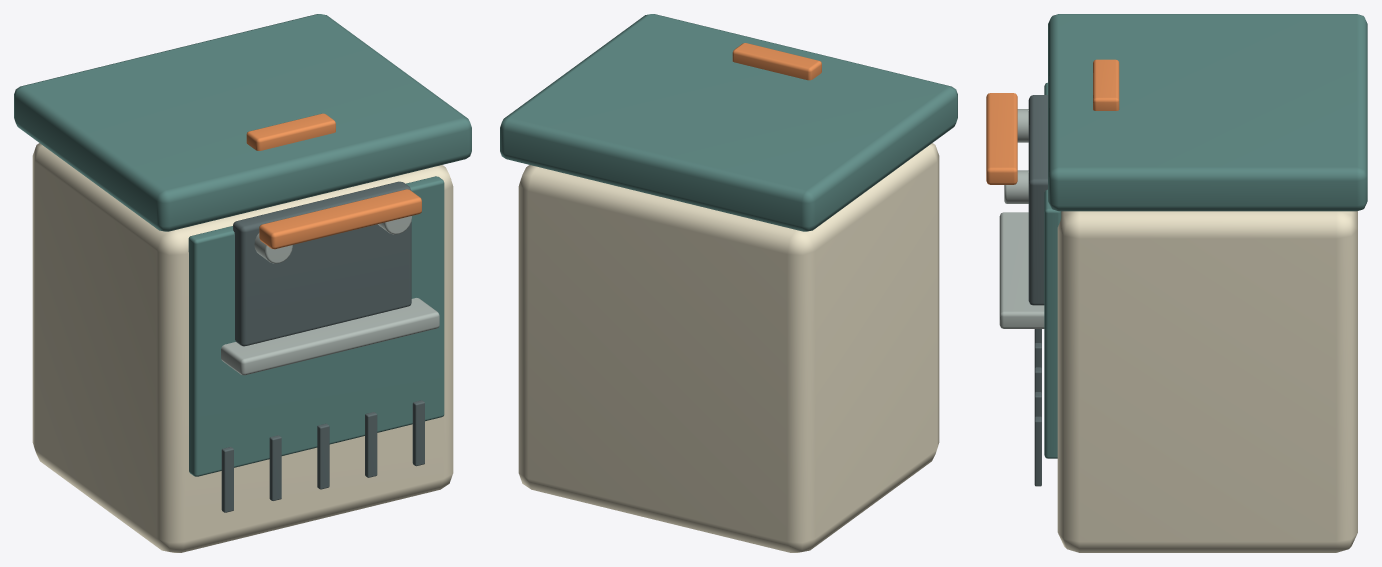
File: NW1_Dispenser.fbx
3 views of the same model, side by side, from view 1: azimuth 30°, elevation 25°; view 2: azimuth 150°, elevation 25°; view 3: azimuth 270°, elevation 25° (orthographic). The views are drawn at different scales.
Visible parts, largest first — view 1: NW1_Dispenser_NW1_Ivory, NW1_Dispenser_Work_FillLid_NW1_Teal, NW1_Dispenser_NW1_Teal, NW1_Dispenser_NW1_Frame, NW1_Dispenser_NW1_Steel, NW1_Dispenser_Work_Valve_NW1_Orange, NW1_Dispenser_Work_FillLid_NW1_Orange; view 2: NW1_Dispenser_NW1_Ivory, NW1_Dispenser_Work_FillLid_NW1_Teal, NW1_Dispenser_Work_FillLid_NW1_Orange; view 3: NW1_Dispenser_NW1_Ivory, NW1_Dispenser_Work_FillLid_NW1_Teal, NW1_Dispenser_NW1_Frame, NW1_Dispenser_NW1_Steel, NW1_Dispenser_NW1_Teal, NW1_Dispenser_Work_Valve_NW1_Orange, NW1_Dispenser_Work_FillLid_NW1_Orange.
Boxes of the visible parts, x1,y1,x2,y2 form: NW1_Dispenser_NW1_Ivory: [32, 143, 453, 552]; NW1_Dispenser_Work_FillLid_NW1_Teal: [14, 14, 471, 231]; NW1_Dispenser_NW1_Teal: [188, 176, 444, 476]; NW1_Dispenser_NW1_Frame: [221, 181, 424, 512]; NW1_Dispenser_NW1_Steel: [221, 216, 439, 375]; NW1_Dispenser_Work_Valve_NW1_Orange: [259, 189, 421, 249]; NW1_Dispenser_Work_FillLid_NW1_Orange: [246, 113, 335, 150]; NW1_Dispenser_NW1_Ivory: [518, 143, 939, 552]; NW1_Dispenser_Work_FillLid_NW1_Teal: [500, 14, 957, 231]; NW1_Dispenser_Work_FillLid_NW1_Orange: [732, 43, 821, 80]; NW1_Dispenser_NW1_Ivory: [1057, 211, 1357, 552]; NW1_Dispenser_Work_FillLid_NW1_Teal: [1048, 14, 1367, 211]; NW1_Dispenser_NW1_Frame: [1028, 95, 1047, 486]; NW1_Dispenser_NW1_Steel: [999, 109, 1044, 328]; NW1_Dispenser_NW1_Teal: [1044, 82, 1061, 458]; NW1_Dispenser_Work_Valve_NW1_Orange: [986, 93, 1017, 184]; NW1_Dispenser_Work_FillLid_NW1_Orange: [1093, 59, 1119, 110].
Size of the model in its own units: 0.79 by 0.9275 by 0.7875.
